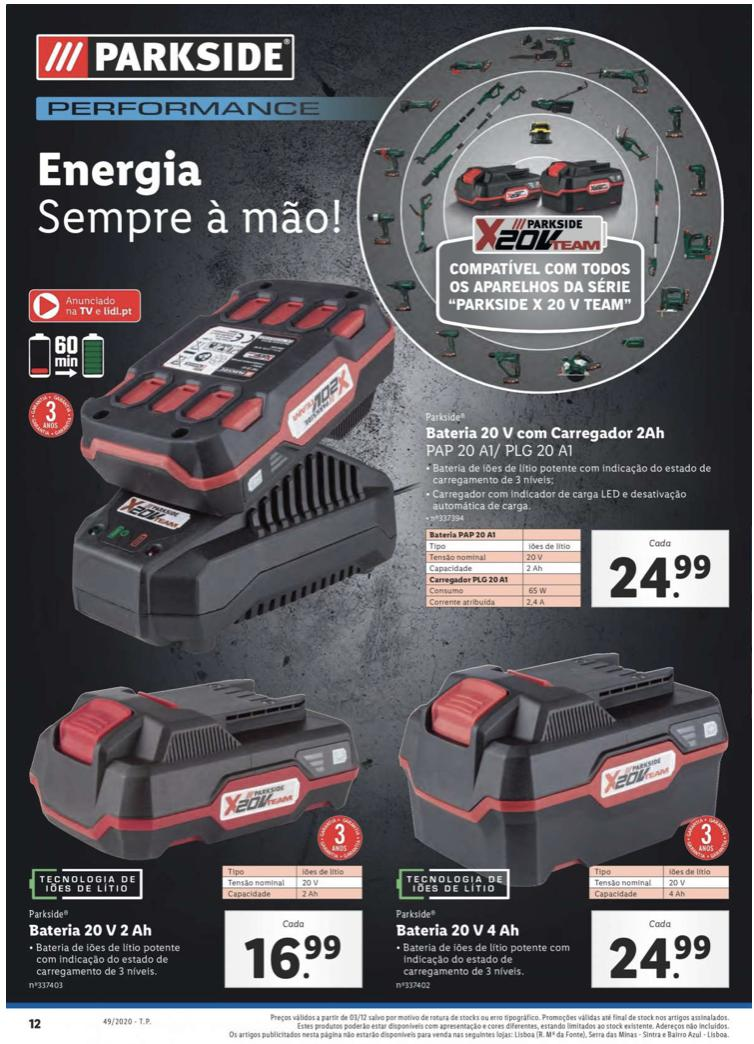name: (413, 421, 673, 449), (22, 915, 157, 943), (391, 918, 527, 944)
price: (597, 550, 723, 604), (601, 930, 723, 984), (238, 931, 354, 984)
product: (21, 269, 748, 618), (375, 634, 749, 1001), (15, 671, 377, 1004)
